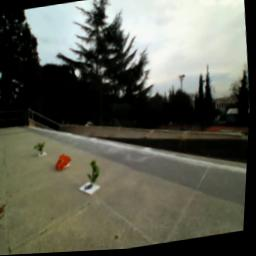herb: (87, 161, 104, 189), (36, 142, 50, 157)
wild: (57, 153, 76, 172)
